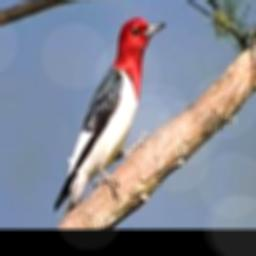Woodpecker: (53, 16, 165, 220)
